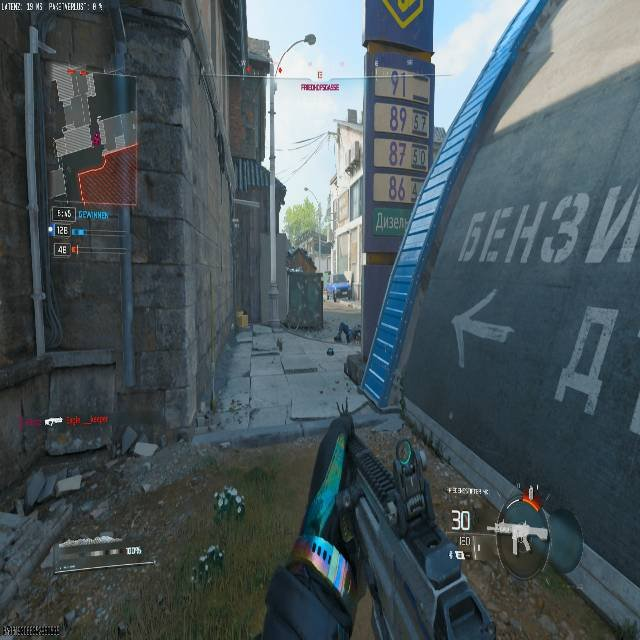player: (229, 398, 243, 425)
